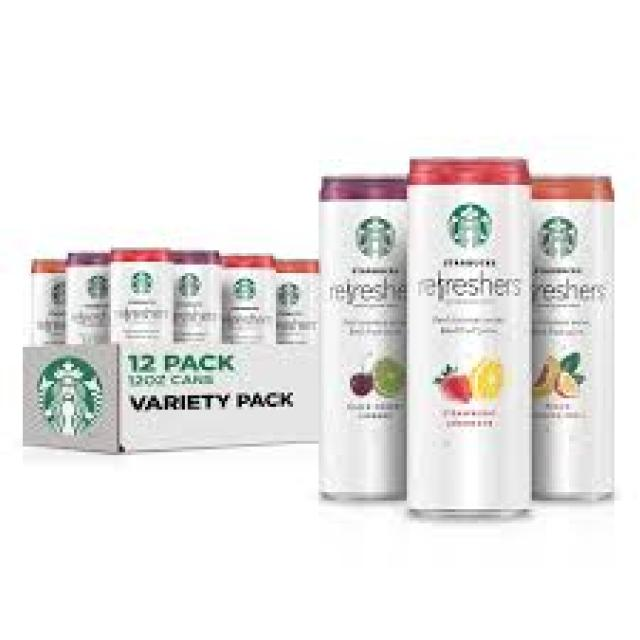Cans: (396, 151, 540, 526)
